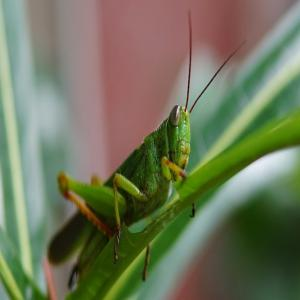locust: (49, 88, 207, 281)
